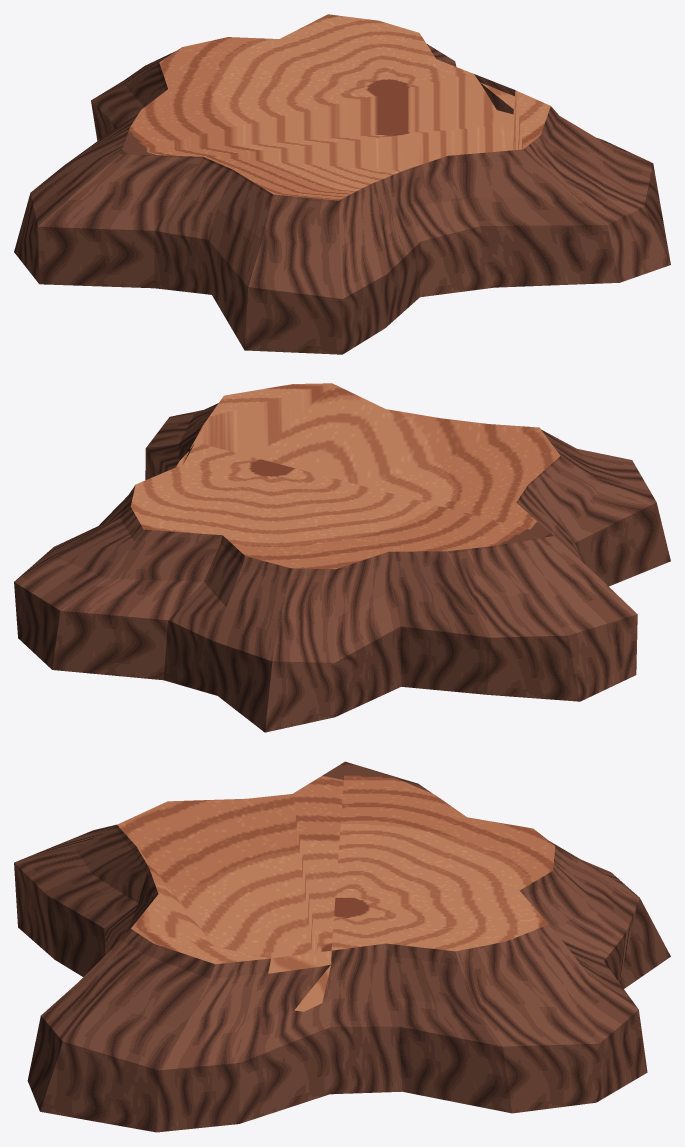
The model's file is environment_redwood3_stump_v2.fbx.
3 renders of one model, top to bottom at view 1: azimuth 30°, elevation 25°; view 2: azimuth 150°, elevation 25°; view 3: azimuth 270°, elevation 25°, orthographic. The views are drawn at different scales.
Visible parts, largest first — view 1: environment_redwood3_stump_v2; view 2: environment_redwood3_stump_v2; view 3: environment_redwood3_stump_v2.
Part boxes in pixels (box(x1,y1,x2,y2)): environment_redwood3_stump_v2: box(14, 14, 670, 354); environment_redwood3_stump_v2: box(14, 383, 670, 732); environment_redwood3_stump_v2: box(14, 761, 670, 1132).
Bounding box in the file's own units: 998 × 200 × 954.
